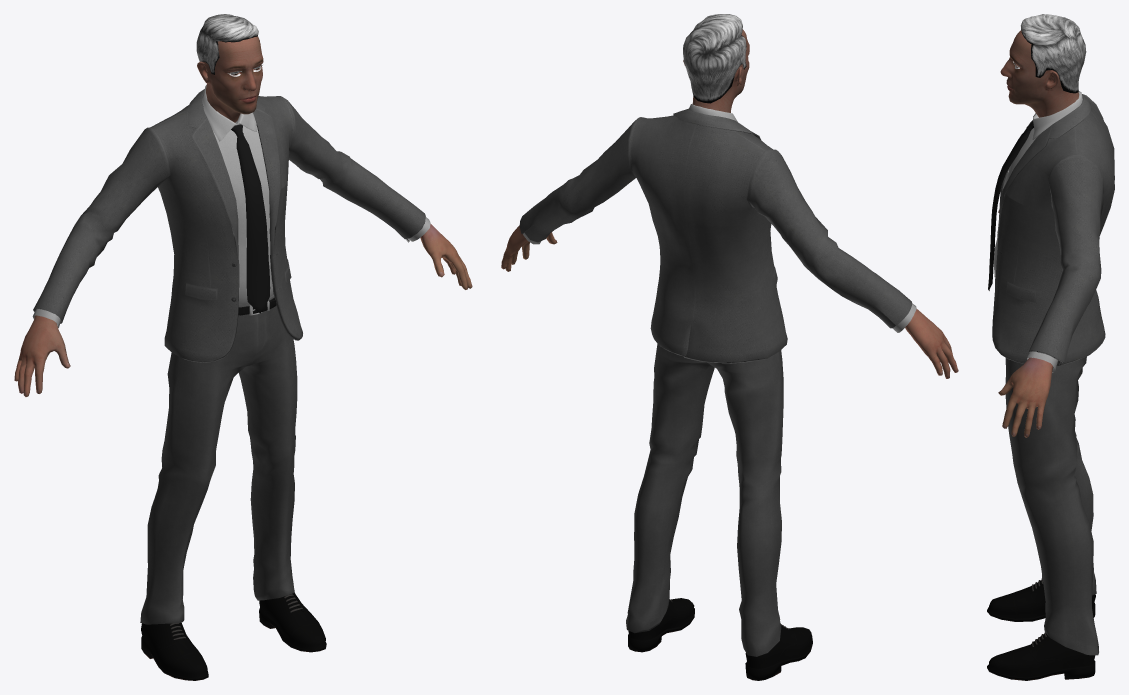
File: BussinessMan_URP_Embedded.fbx
3 views of the same model, side by side, from view 1: azimuth 30°, elevation 25°; view 2: azimuth 150°, elevation 25°; view 3: azimuth 270°, elevation 25° (orthographic).
Parts seen in each view (by area): view 1: Open_Jacket_LOD0, Pants_LOD0, FaceB_LOD0, Shoes_LOD0, Open_Shirt_LOD0, Tie_LOD0, HairC_LOD0; view 2: Open_Jacket_LOD0, Pants_LOD0, HairC_LOD0, Shoes_LOD0, FaceB_LOD0; view 3: Open_Jacket_LOD0, Pants_LOD0, FaceB_LOD0, Shoes_LOD0, HairC_LOD0, Open_Shirt_LOD0, Tie_LOD0.
Boxes of the visible parts, left/top/right/bottom form: Open_Jacket_LOD0: left=33, top=89, right=425, bottom=362; Pants_LOD0: left=140, top=294, right=297, bottom=624; FaceB_LOD0: left=14, top=36, right=472, bottom=396; Shoes_LOD0: left=141, top=593, right=326, bottom=680; Open_Shirt_LOD0: left=32, top=85, right=430, bottom=327; Tie_LOD0: left=231, top=124, right=270, bottom=313; HairC_LOD0: left=196, top=14, right=259, bottom=74; Open_Jacket_LOD0: left=519, top=108, right=912, bottom=363; Pants_LOD0: left=626, top=343, right=783, bottom=656; HairC_LOD0: left=683, top=14, right=746, bottom=103; Shoes_LOD0: left=628, top=598, right=812, bottom=680; FaceB_LOD0: left=501, top=29, right=958, bottom=378; Open_Jacket_LOD0: left=992, top=94, right=1114, bottom=365; Pants_LOD0: left=1005, top=356, right=1098, bottom=655; FaceB_LOD0: left=998, top=30, right=1079, bottom=437; Shoes_LOD0: left=987, top=578, right=1095, bottom=680; HairC_LOD0: left=1020, top=14, right=1086, bottom=93; Open_Shirt_LOD0: left=993, top=91, right=1082, bottom=372; Tie_LOD0: left=988, top=121, right=1033, bottom=290.
Size of what is drawn, in the model's own units: 138 by 186 by 34.46.
3 materials, 3 textured.
